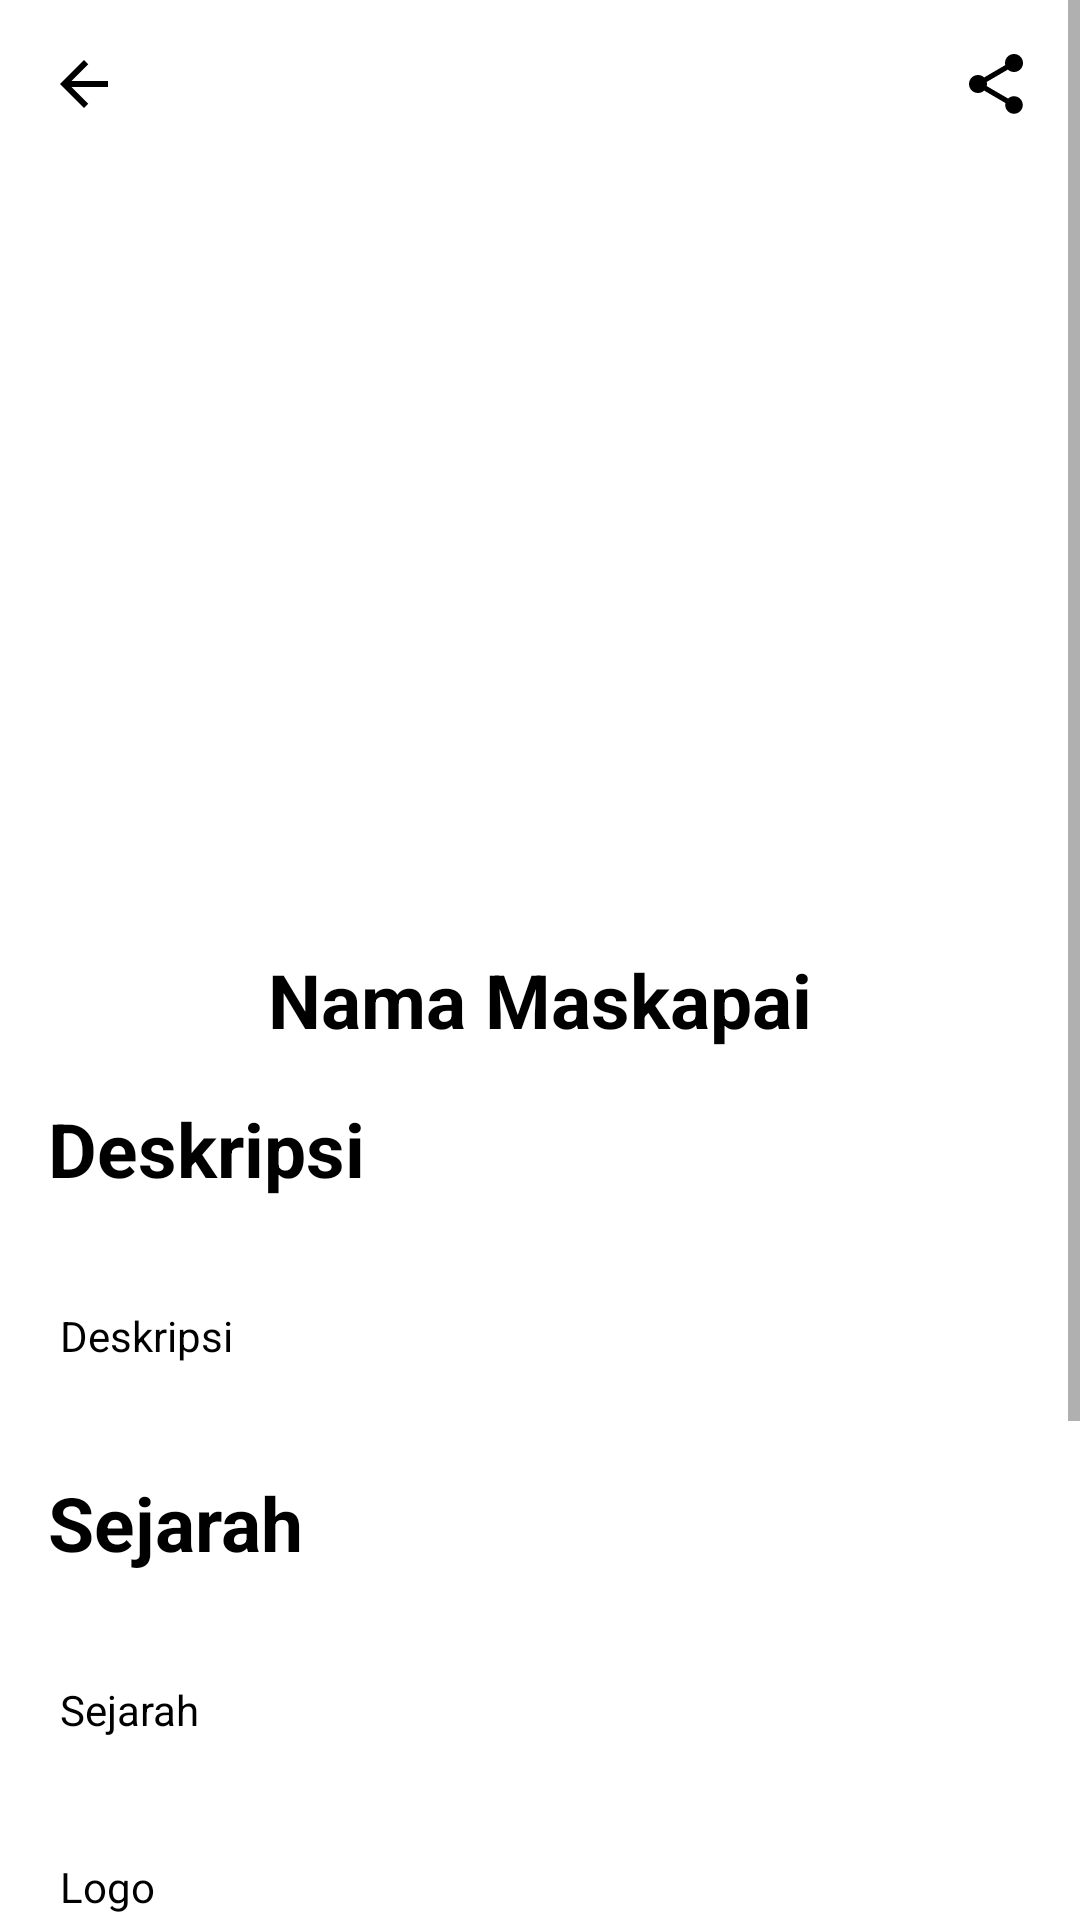

Screen size 1080*1920. Icon name, then its box in pixels as bbox=(x1, y1, x2, y2):
arrow back: bbox=(60, 60, 108, 108)
